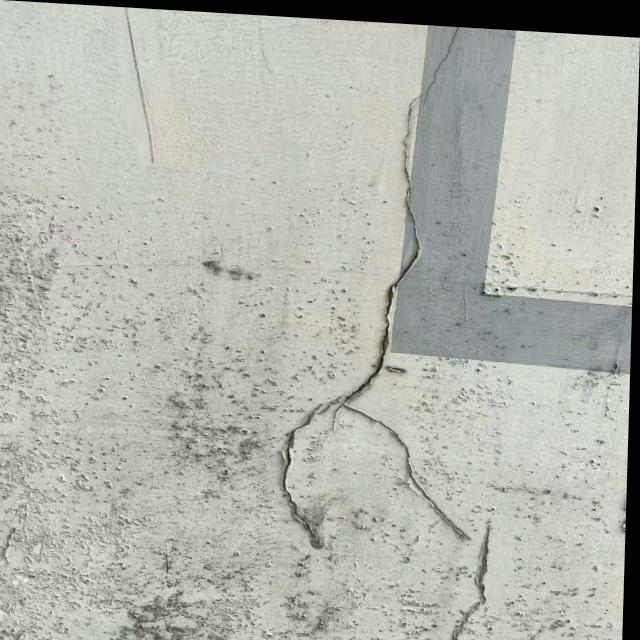crack: (265, 34, 480, 550), (442, 513, 499, 640)
mildew: (171, 330, 271, 486), (105, 575, 249, 640)
